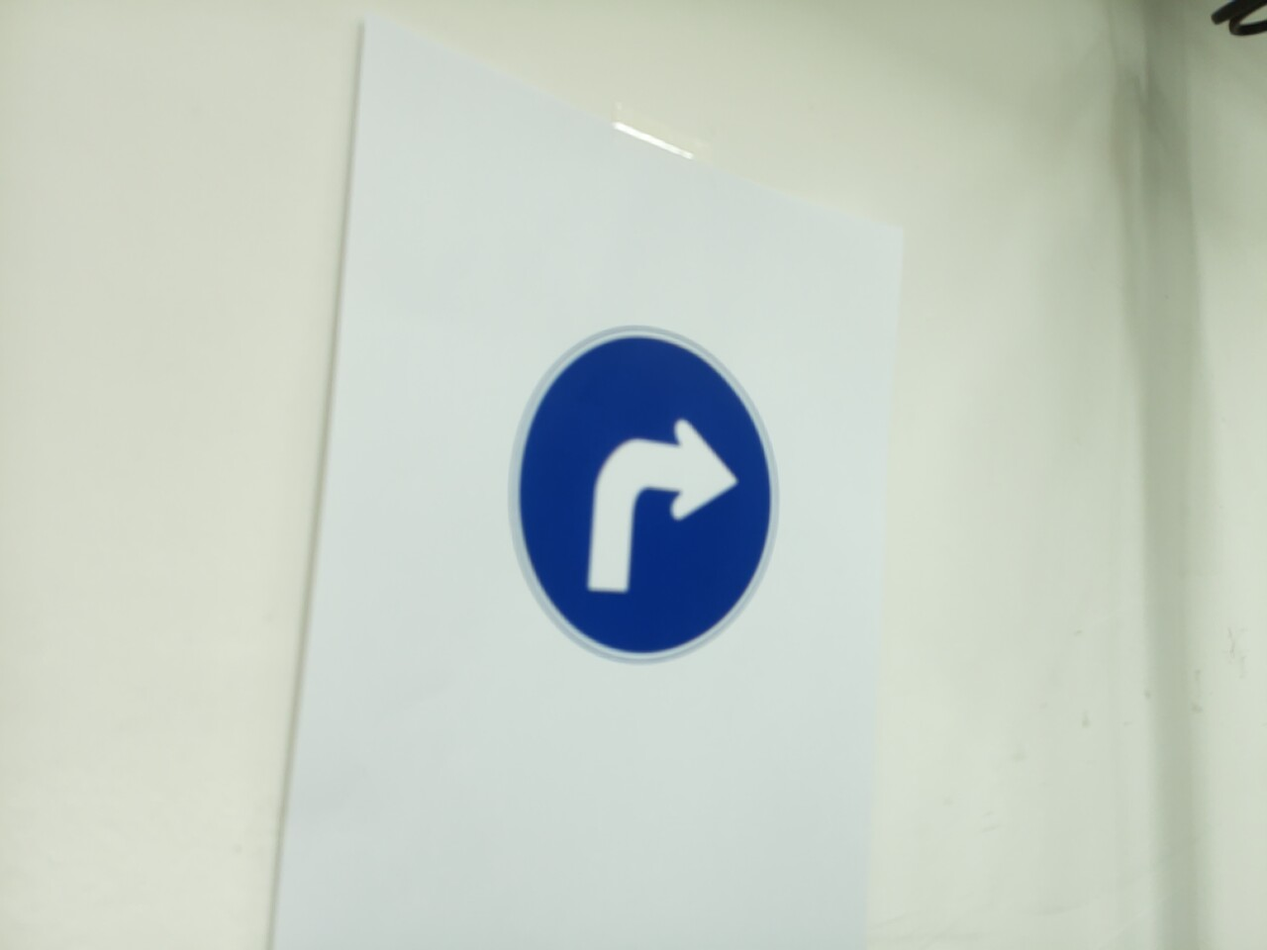right_turn: (511, 327, 780, 663)
